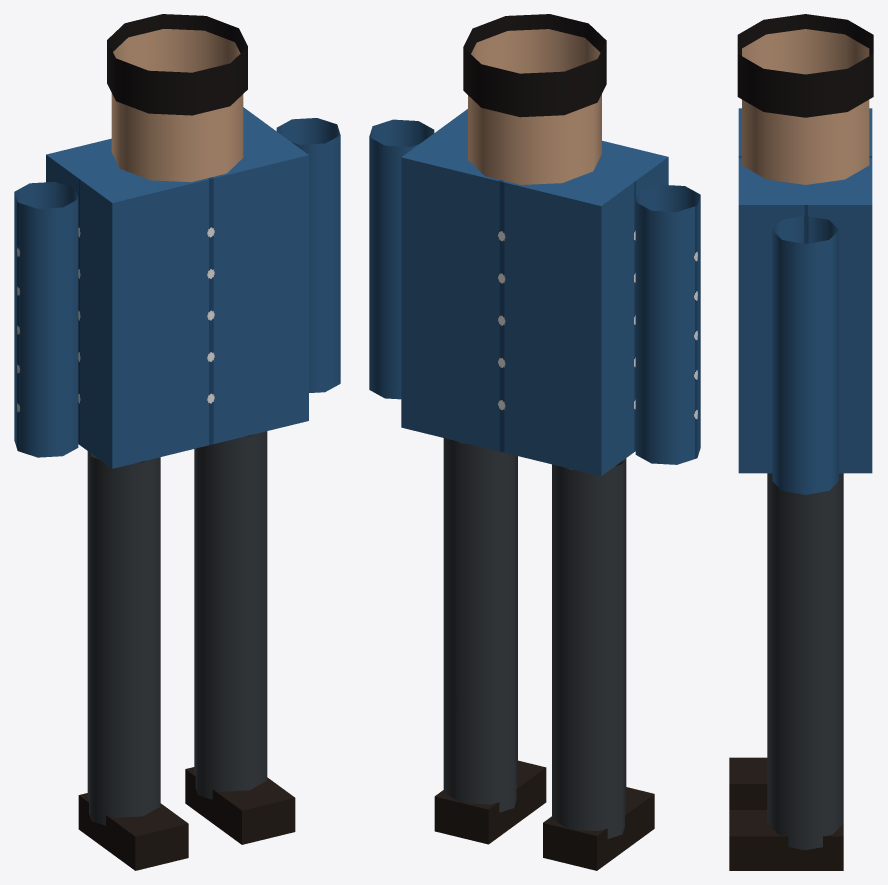
File: civilian_npc_realistic.glb
3 views of the same model, side by side, from view 1: azimuth 30°, elevation 25°; view 2: azimuth 150°, elevation 25°; view 3: azimuth 270°, elevation 25° (orthographic).
Visible parts, largest first — view 1: UpperBody, Pants, Head, Shoes, Hair; view 2: UpperBody, Pants, Head, Shoes, Hair; view 3: UpperBody, Pants, Head, Hair, Shoes.
Part boxes in pixels (x1=…): UpperBody: x1=14, y1=107, x2=340, y2=468; Pants: x1=87, y1=431, x2=267, y2=825; Head: x1=111, y1=29, x2=243, y2=182; Shoes: x1=78, y1=767, x2=295, y2=870; Hair: x1=107, y1=14, x2=247, y2=115; UpperBody: x1=369, y1=109, x2=700, y2=476; Pants: x1=443, y1=438, x2=626, y2=838; Head: x1=468, y1=29, x2=601, y2=184; Shoes: x1=434, y1=760, x2=654, y2=870; Hair: x1=463, y1=14, x2=606, y2=117; UpperBody: x1=738, y1=108, x2=872, y2=494; Pants: x1=767, y1=473, x2=843, y2=850; Head: x1=742, y1=29, x2=869, y2=184; Hair: x1=737, y1=14, x2=873, y2=117; Shoes: x1=729, y1=757, x2=843, y2=870.
Bounding box in the file's own units: 0.78 × 1.82 × 0.3027.
Materials: 5 (5 with a texture image).
